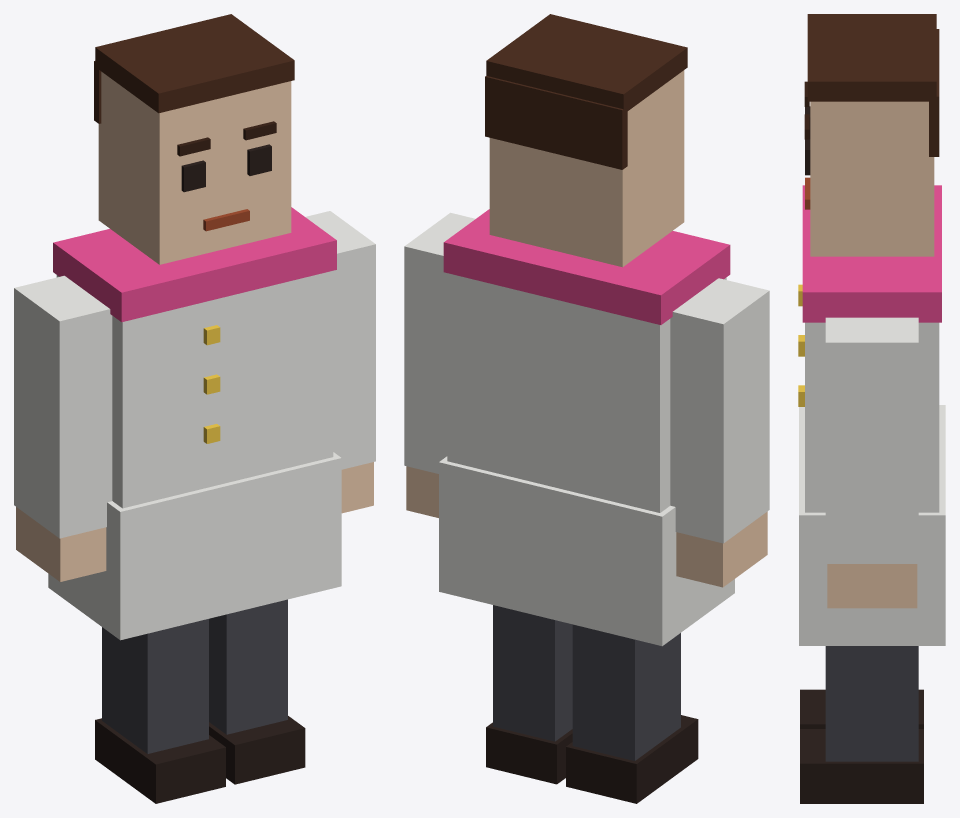
The model's file is chem_teacher.glb.
3 views of the same model, side by side, from view 1: azimuth 30°, elevation 25°; view 2: azimuth 150°, elevation 25°; view 3: azimuth 270°, elevation 25° (orthographic).
Parts seen in each view (by area): view 1: Box9, Box10, Box17, Box7, Box11, Box23, Box5, Box3, Box1, Box6, Box2, Box8 (+3 smaller); view 2: Box9, Box10, Box7, Box17, Box11, Box5, Box23, Box3, Box1, Box24, Box6, Box8 (+2 smaller); view 3: Box3, Box17, Box10, Box23, Box1, Box11, Box9, Box2, Box4, Box6, Box24.
Boxes of the visible parts, <box> form: Box9: <box>56,271,333,508</box>; Box10: <box>48,452,341,640</box>; Box17: <box>98,71,291,264</box>; Box7: <box>14,275,112,538</box>; Box11: <box>53,207,336,322</box>; Box23: <box>95,14,294,113</box>; Box5: <box>102,619,208,753</box>; Box3: <box>305,211,375,469</box>; Box1: <box>209,599,287,734</box>; Box6: <box>95,718,225,803</box>; Box2: <box>209,716,305,784</box>; Box8: <box>16,507,106,581</box>; Box9: <box>447,273,726,512</box>; Box10: <box>439,456,734,646</box>; Box7: <box>670,278,769,543</box>; Box17: <box>489,70,684,267</box>; Box11: <box>443,209,730,324</box>; Box5: <box>572,624,680,760</box>; Box23: <box>486,14,687,113</box>; Box3: <box>404,212,475,473</box>; Box1: <box>493,605,572,741</box>; Box24: <box>485,76,627,169</box>; Box6: <box>566,715,698,803</box>; Box8: <box>676,511,767,587</box>; Box3: <box>825,317,918,563</box>; Box17: <box>810,101,934,256</box>; Box10: <box>799,405,945,645</box>; Box23: <box>807,14,936,101</box>; Box1: <box>825,646,918,761</box>; Box11: <box>802,185,941,322</box>; Box9: <box>805,322,939,512</box>; Box2: <box>800,729,923,803</box>; Box4: <box>827,564,917,608</box>; Box6: <box>800,689,923,728</box>; Box24: <box>929,29,939,156</box>.
Bounding box in the file's own units: 0.8165 × 1.74 × 0.3232.
